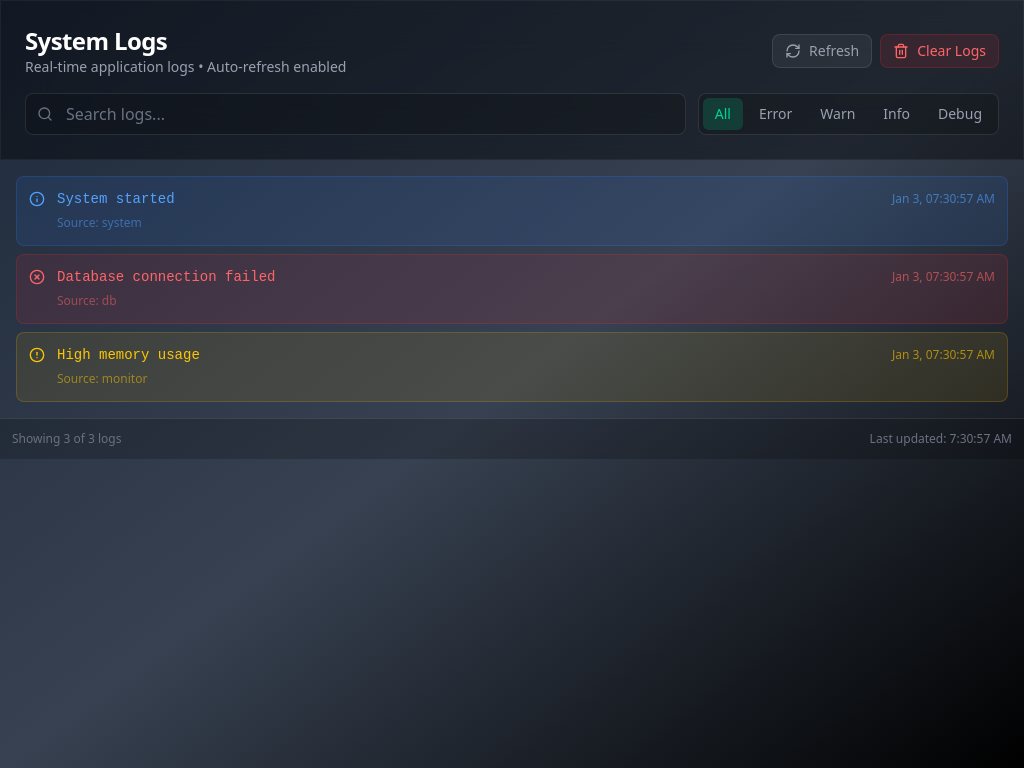
Test: Logs Page › searches logs
Expected: the text "System started" is shown, [57,191,175,207]
Type "database" into the field with placeholder "Search logs..." at coordinates (355, 114), box [25,93,686,135]
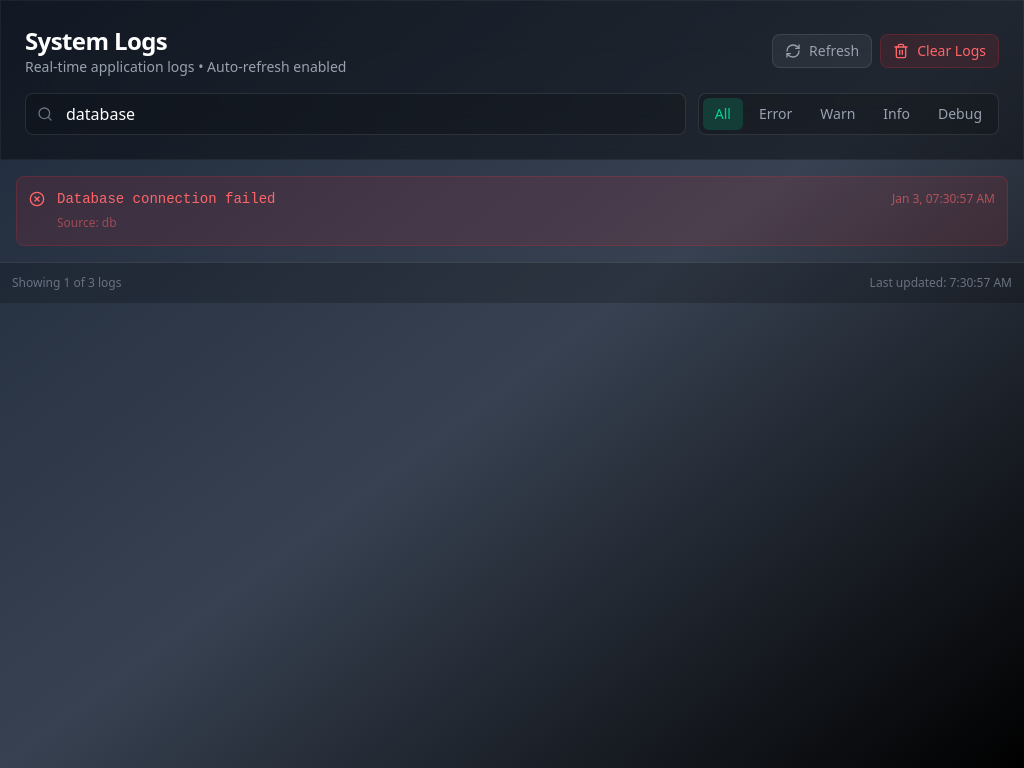
Expected: the text "Database connection failed" is shown, [57,191,275,207]
Expected: the text "System started" is gone
